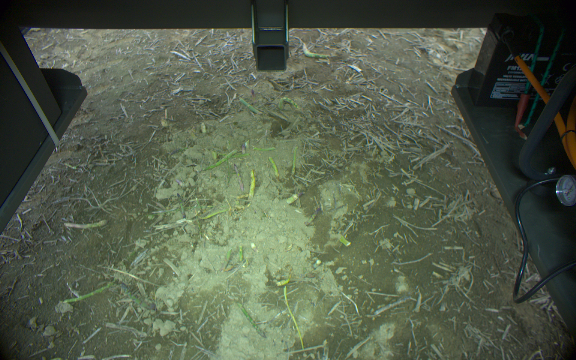aspa: (232, 299, 268, 339), (65, 277, 116, 305), (116, 281, 155, 313), (228, 162, 247, 194), (267, 155, 282, 181), (283, 190, 306, 205), (246, 168, 257, 198), (290, 143, 299, 178), (221, 247, 233, 273), (234, 242, 247, 265)
